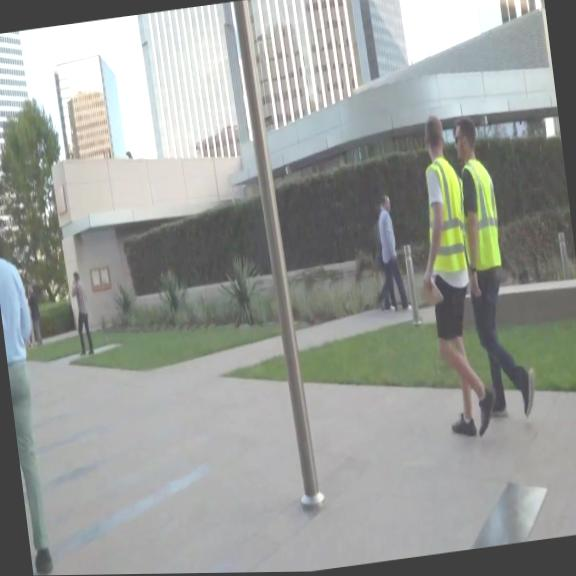safety_vest: (416, 155, 472, 272), (454, 154, 502, 272)
